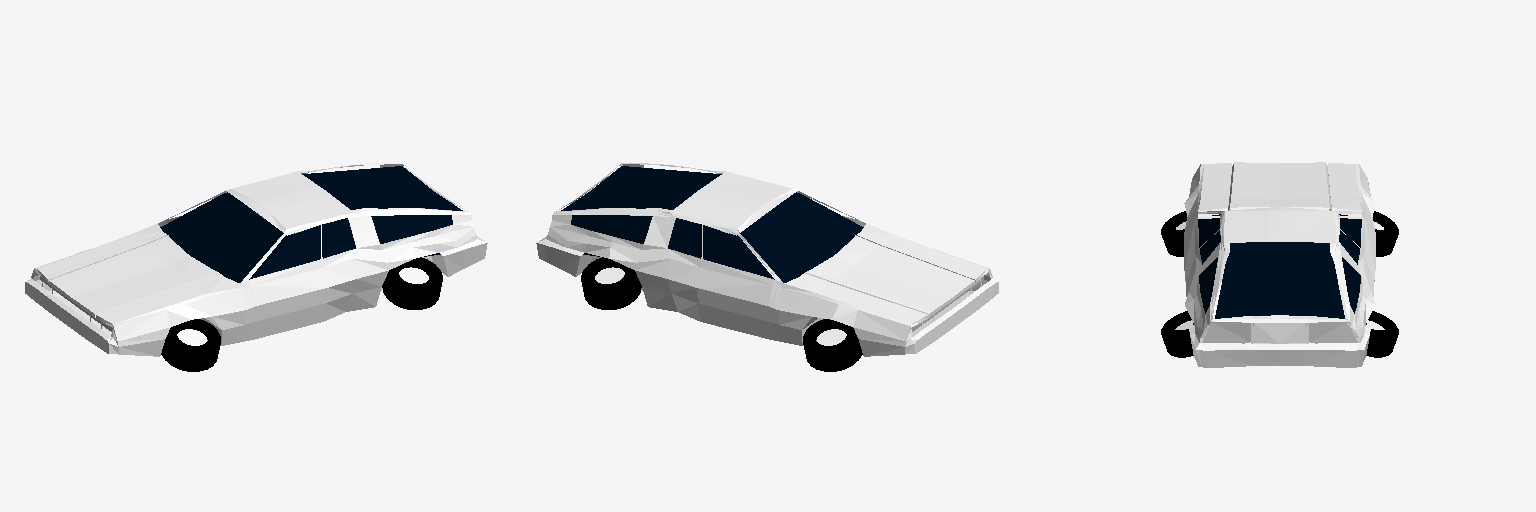
Rendered from del.obj.
3 views of the same model, side by side, from view 1: azimuth 30°, elevation 25°; view 2: azimuth 150°, elevation 25°; view 3: azimuth 270°, elevation 25° (orthographic).
Visible parts, largest first — view 1: l2_Cube.003; view 2: l2_Cube.003; view 3: l2_Cube.003.
Part boxes in pixels (x1,y1,x2,y2): l2_Cube.003: (25, 163, 487, 371); l2_Cube.003: (536, 163, 998, 371); l2_Cube.003: (1161, 162, 1398, 367).
Size of the model in its own units: 3.33 by 0.809 by 1.81.